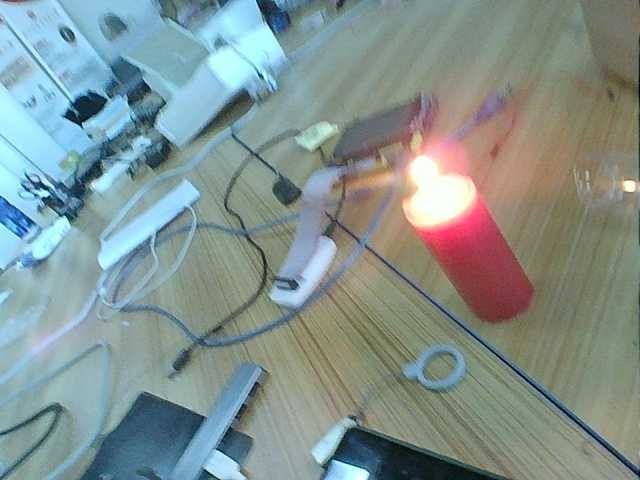candle: (410, 216, 559, 324)
fire: (390, 156, 473, 218)
